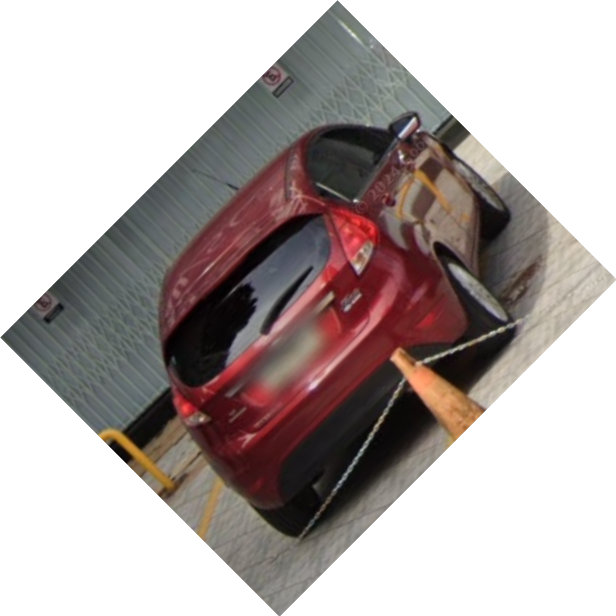car: (157, 122, 512, 537)
